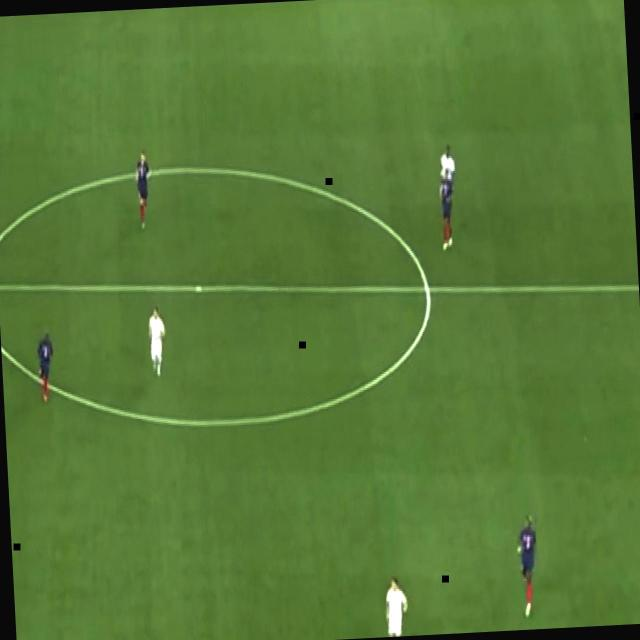player-white: (515, 515, 542, 626), (133, 148, 155, 232), (437, 166, 457, 254), (146, 302, 169, 377), (384, 573, 410, 637), (436, 143, 458, 210), (36, 331, 56, 404)
